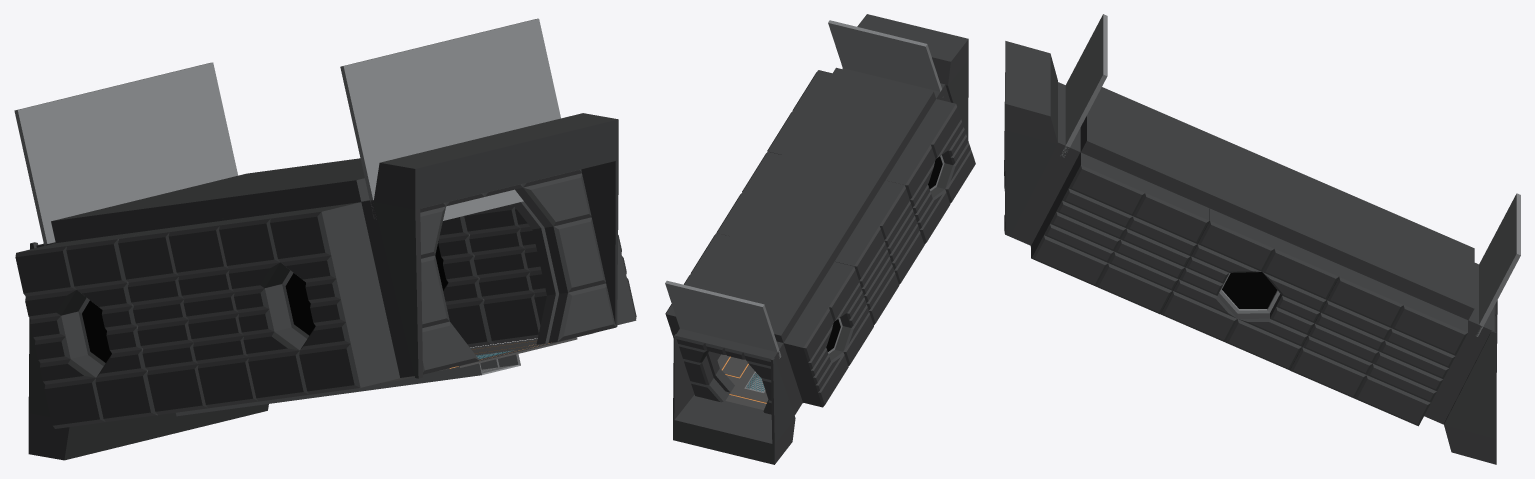
Rendered from corridor_tilt.fbx.
The picture shows the model from 3 angles, left to right: view 1: azimuth 30°, elevation 25°; view 2: azimuth 150°, elevation 25°; view 3: azimuth 270°, elevation 25°; orthographic projection. The views are drawn at different scales.
Visible parts, largest first — view 1: r3_c1_wall2, r3_c1_doorplate2, r3_c1_doorplate1, Cube.009, r3_c1_door1, r3_c1_wall1, r3_c1_celing1, Cube.010, r3_c1_floor; view 2: r3_c1_celing1, r3_c1_wall2, Cube.010, r3_c1_door2, r3_c1_doorplate2, r3_c1_doorplate1, r3_c1_wall1, Cube.009, r3_c1_floor, r3_c1_door1; view 3: r3_c1_wall1, r3_c1_celing1, Cube.009, Cube.010, r3_c1_door1, r3_c1_doorplate1, r3_c1_doorplate2, r3_c1_door2.
Part boxes in pixels (left/top/right/bottom): r3_c1_wall2: left=15, top=202, right=400, bottom=428; r3_c1_doorplate2: left=14, top=62, right=238, bottom=245; r3_c1_doorplate1: left=340, top=18, right=560, bottom=220; Cube.009: left=373, top=113, right=618, bottom=378; r3_c1_door1: left=361, top=169, right=616, bottom=377; r3_c1_wall1: left=435, top=204, right=636, bottom=347; r3_c1_celing1: left=51, top=158, right=369, bottom=242; Cube.010: left=28, top=242, right=268, bottom=460; r3_c1_floor: left=176, top=333, right=593, bottom=416; r3_c1_celing1: left=698, top=67, right=935, bottom=342; r3_c1_wall2: left=783, top=99, right=975, bottom=407; Cube.010: left=673, top=334, right=795, bottom=464; r3_c1_door2: left=675, top=328, right=802, bottom=415; r3_c1_doorplate2: left=665, top=280, right=781, bottom=358; r3_c1_doorplate1: left=828, top=20, right=941, bottom=91; r3_c1_wall1: left=665, top=70, right=832, bottom=359; Cube.009: left=857, top=14, right=968, bottom=139; r3_c1_floor: left=717, top=354, right=803, bottom=410; r3_c1_door1: left=842, top=68, right=950, bottom=102; r3_c1_wall1: left=1031, top=152, right=1467, bottom=426; r3_c1_celing1: left=1080, top=87, right=1474, bottom=320; Cube.009: left=1004, top=41, right=1057, bottom=236; Cube.010: left=1444, top=300, right=1497, bottom=464; r3_c1_door1: left=1004, top=82, right=1080, bottom=245; r3_c1_doorplate1: left=1060, top=14, right=1107, bottom=157; r3_c1_doorplate2: left=1476, top=193, right=1520, bottom=336; r3_c1_door2: left=1424, top=263, right=1496, bottom=424.
Bounding box in the file's own units: 1443 × 3000 × 3610.
